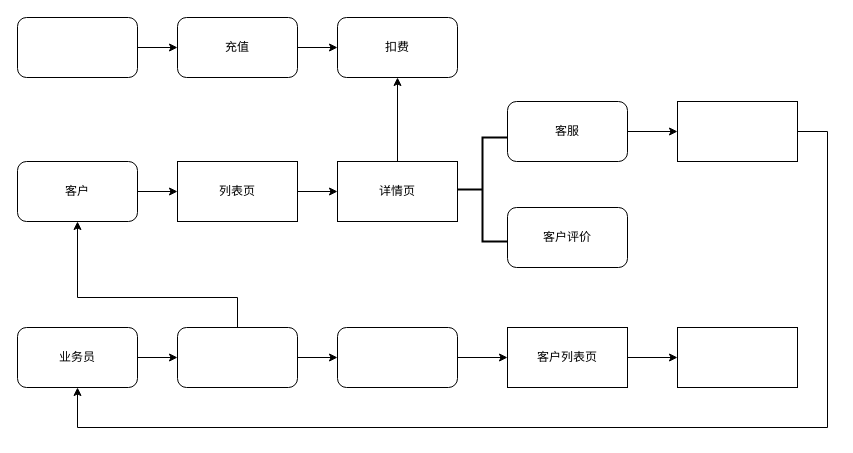
Some shapes in this 853 by 453 pixel diagram are drawn without their labels. Here are the shapes that lost their labels. From the top down, the centre of each, then its label:
[77,47]: 商家
[737,131]: 聊天室
[237,357]: 分享
[397,357]: 客户跟踪
[737,357]: 客户状态详情页
